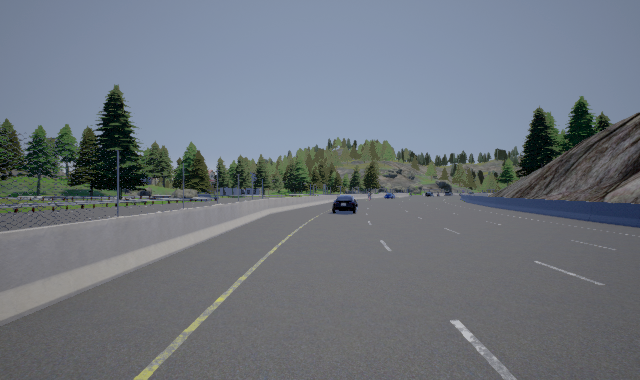bike: (365, 190, 374, 201)
vehicle: (332, 195, 358, 214), (383, 191, 395, 200)
